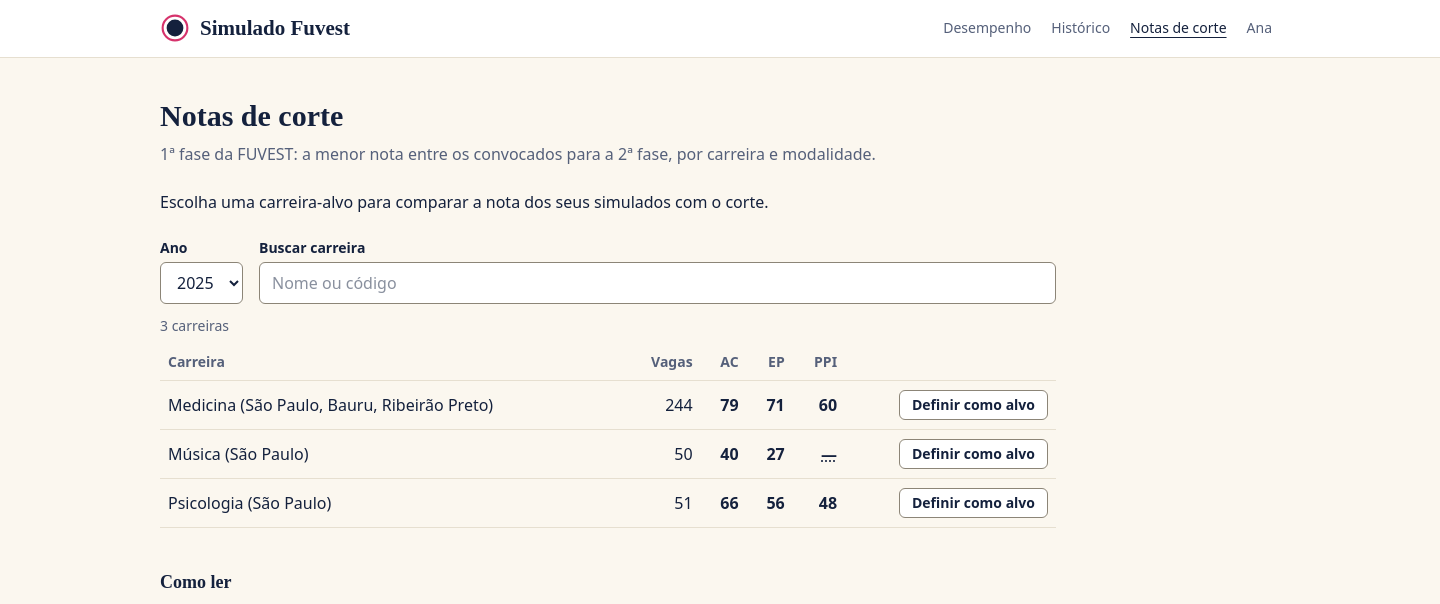
Revisão de código (CR-010) › carreira de uma lista que ficou velha: mensagem do servidor e a lista recarrega
Expected: the text "3 carreiras" is shown, [160, 316, 229, 335]
Click the button "Definir como alvo" in the row of "244". click: (973, 405)
box: [899, 390, 1048, 420]
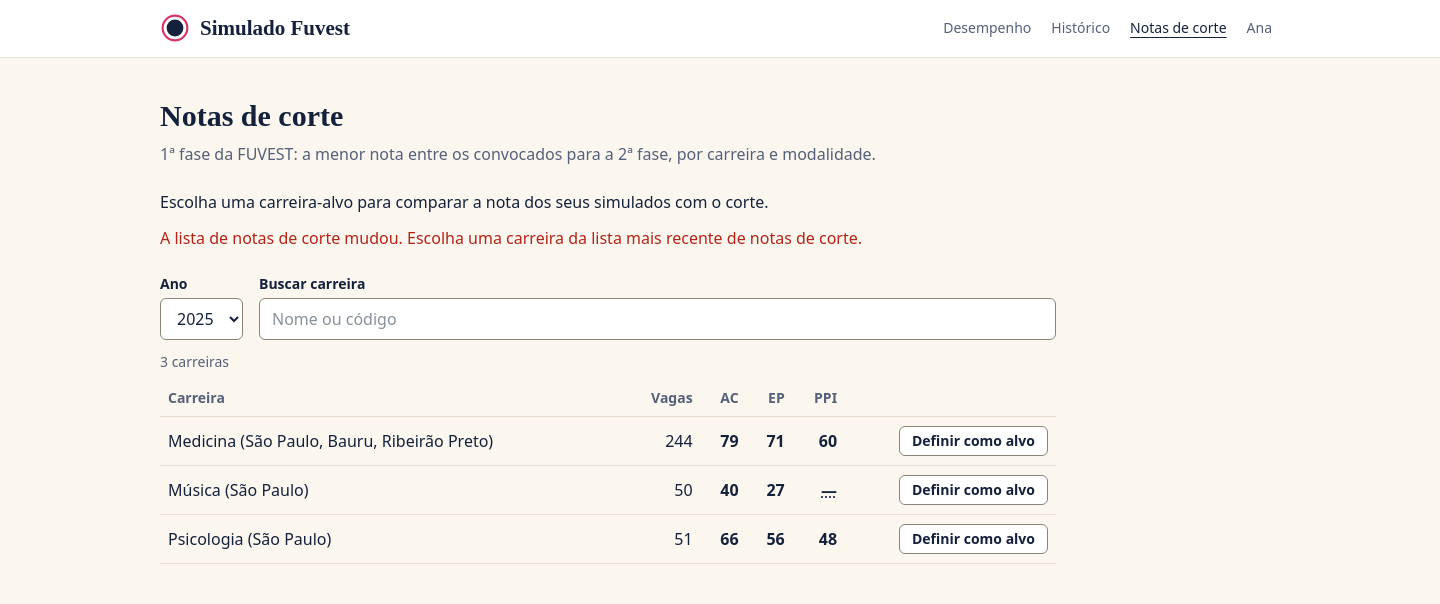
Expected: the message shows "A lista de notas de corte mudou. Escolha uma carreira da lista mais recente de notas de corte.", [160, 227, 862, 249]
